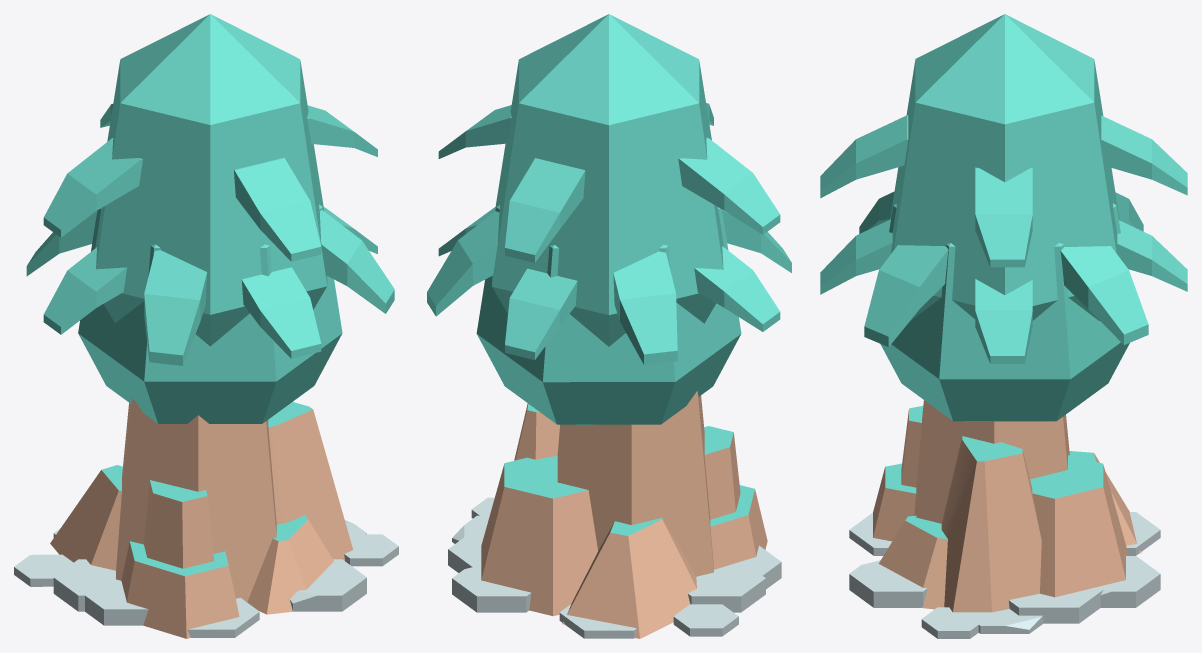
File: world_nature.glb
3 renders of one model, left to right at view 1: azimuth 30°, elevation 25°; view 2: azimuth 150°, elevation 25°; view 3: azimuth 270°, elevation 25°, orthographic.
Parts seen in each view (by area): view 1: rock_tallB, tree_default, leafs (×2), tree_oak, tree_palmTall, path_stoneCircle, path_stone; view 2: rock_tallB, tree_default, tree_oak, leafs (×2), tree_palmTall, path_stoneCircle, path_stone; view 3: tree_default, rock_tallB, leafs (×2), tree_oak, tree_palmTall, path_stoneCircle, path_stone.
Boxes of the visible parts, box(x1,y1,x2,y2) form: rock_tallB: box(50, 398, 352, 638); tree_default: box(95, 14, 327, 346); leafs (×2): box(26, 207, 394, 365); tree_oak: box(78, 204, 342, 423); tree_palmTall: box(43, 104, 377, 261); path_stoneCircle: box(53, 520, 366, 637); path_stone: box(14, 534, 398, 625); rock_tallB: box(481, 390, 767, 638); tree_default: box(492, 14, 723, 346); tree_oak: box(476, 205, 741, 424); leafs (×2): box(427, 207, 791, 364); tree_palmTall: box(438, 103, 780, 262); path_stoneCircle: box(452, 515, 765, 638); path_stone: box(448, 497, 781, 636); tree_default: box(890, 14, 1119, 320); rock_tallB: box(873, 400, 1141, 612); leafs (×2): box(820, 191, 1187, 363); tree_oak: box(880, 203, 1129, 421); tree_palmTall: box(820, 115, 1187, 267); path_stoneCircle: box(849, 512, 1160, 633); path_stone: box(921, 584, 1108, 638).
Bounding box in the file's own units: 1.03 × 1.71 × 1.03.
